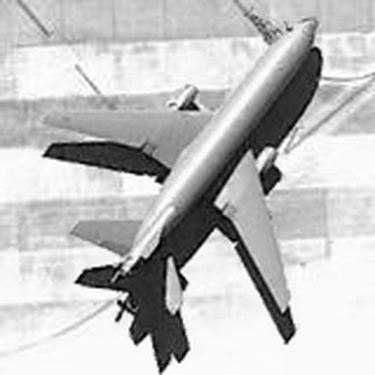airplane: (21, 10, 331, 340)
